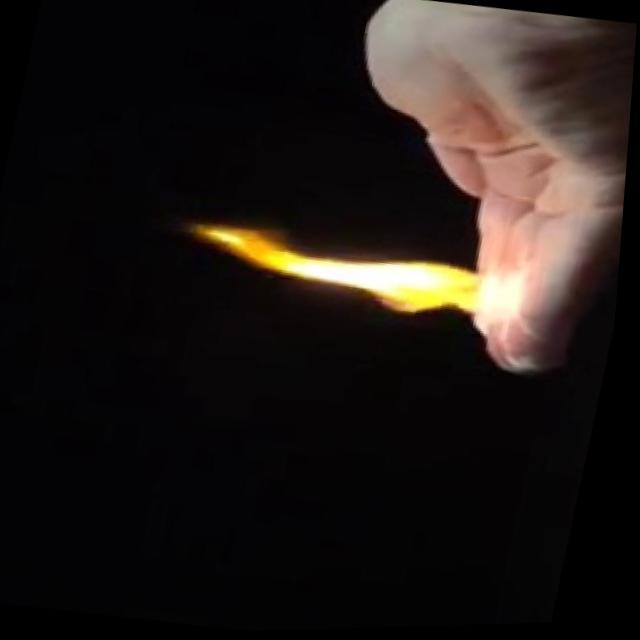Fire: (210, 223, 547, 338)
